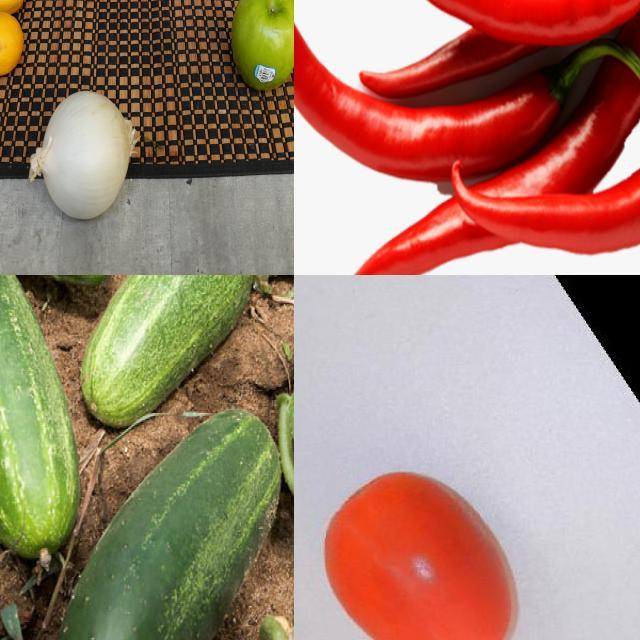cucumber: (57, 399, 292, 640), (1, 276, 99, 576), (77, 276, 258, 433)
onion: (31, 92, 143, 230)
tomato: (301, 456, 541, 640)
